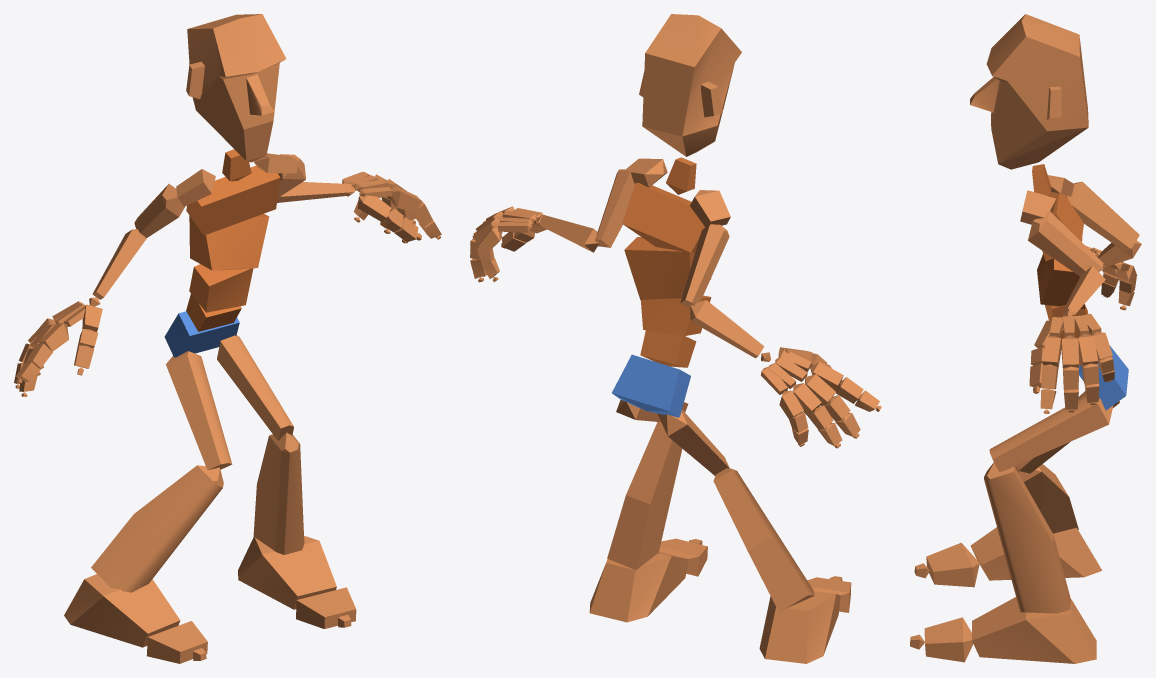
3 renders of one model, left to right at view 1: azimuth 30°, elevation 25°; view 2: azimuth 150°, elevation 25°; view 3: azimuth 270°, elevation 25°, orthographic. The views are drawn at different scales.
Parts seen in each view (by area): view 1: BOPED_Head, BOPED_R_leg, BOPED_R_foot, BOPED_L_leg, BOPED_R_foot01, BOPED_R_legup, Bone05, Bone04, BOPED_L_legup, Bone03, Bone01, BOPED_R_foot_toe01 (+8 smaller); view 2: BOPED_Head, BOPED_L_leg, BOPED_R_leg, BOPED_R_foot01, BOPED_R_foot, Bone05, Bone01, Bone04, BOPED_R_arm_upper, BOPED_R_legup, Bone03, BOPED_R_arm_fore (+8 smaller); view 3: BOPED_Head, BOPED_L_leg, BOPED_R_foot01, BOPED_L_legup, BOPED_R_foot, BOPED_L_arm_upper, BOPED_R_arm_upper, BOPED_R_leg, BOPED_R_foot_toe01, BOPED_R_foot_toe04, Bone04, Bone01 (+14 smaller).
Part boxes in pixels (left/top/right/bottom): BOPED_Head: left=186, top=14, right=286, bottom=162; BOPED_R_leg: left=91, top=465, right=223, bottom=592; BOPED_R_foot: left=64, top=574, right=180, bottom=647; BOPED_L_leg: left=253, top=432, right=304, bottom=554; BOPED_R_foot01: left=238, top=536, right=336, bottom=609; BOPED_R_legup: left=166, top=351, right=232, bottom=470; Bone05: left=186, top=165, right=280, bottom=235; Bone04: left=189, top=213, right=269, bottom=270; BOPED_L_legup: left=217, top=335, right=293, bottom=440; Bone03: left=189, top=264, right=253, bottom=312; Bone01: left=164, top=311, right=239, bottom=357; BOPED_R_foot_toe01: left=146, top=621, right=207, bottom=663; BOPED_Head: left=639, top=14, right=741, bottom=156; BOPED_L_leg: left=607, top=422, right=682, bottom=570; BOPED_R_leg: left=713, top=468, right=814, bottom=612; BOPED_R_foot01: left=589, top=552, right=688, bottom=622; BOPED_R_foot: left=759, top=591, right=840, bottom=663; Bone05: left=622, top=183, right=705, bottom=252; Bone01: left=612, top=354, right=690, bottom=417; Bone04: left=624, top=237, right=711, bottom=299; BOPED_R_arm_upper: left=680, top=224, right=729, bottom=307; BOPED_R_legup: left=657, top=409, right=729, bottom=475; Bone03: left=640, top=295, right=711, bottom=336; BOPED_R_arm_fore: left=690, top=300, right=764, bottom=358; BOPED_Head: left=970, top=14, right=1088, bottom=169; BOPED_L_leg: left=984, top=462, right=1070, bottom=613; BOPED_R_foot01: left=972, top=597, right=1096, bottom=663; BOPED_L_legup: left=989, top=396, right=1113, bottom=471; BOPED_R_foot: left=970, top=527, right=1101, bottom=580; BOPED_L_arm_upper: left=1028, top=211, right=1103, bottom=276; BOPED_R_arm_upper: left=1066, top=181, right=1139, bottom=250; BOPED_R_leg: left=1015, top=464, right=1078, bottom=533; BOPED_R_foot_toe01: left=926, top=542, right=979, bottom=587; BOPED_R_foot_toe04: left=924, top=617, right=973, bottom=662; Bone04: left=1037, top=238, right=1084, bottom=308; Bone01: left=1079, top=345, right=1128, bottom=410.
Size of the model in its own units: 130 by 176 by 61.32.
